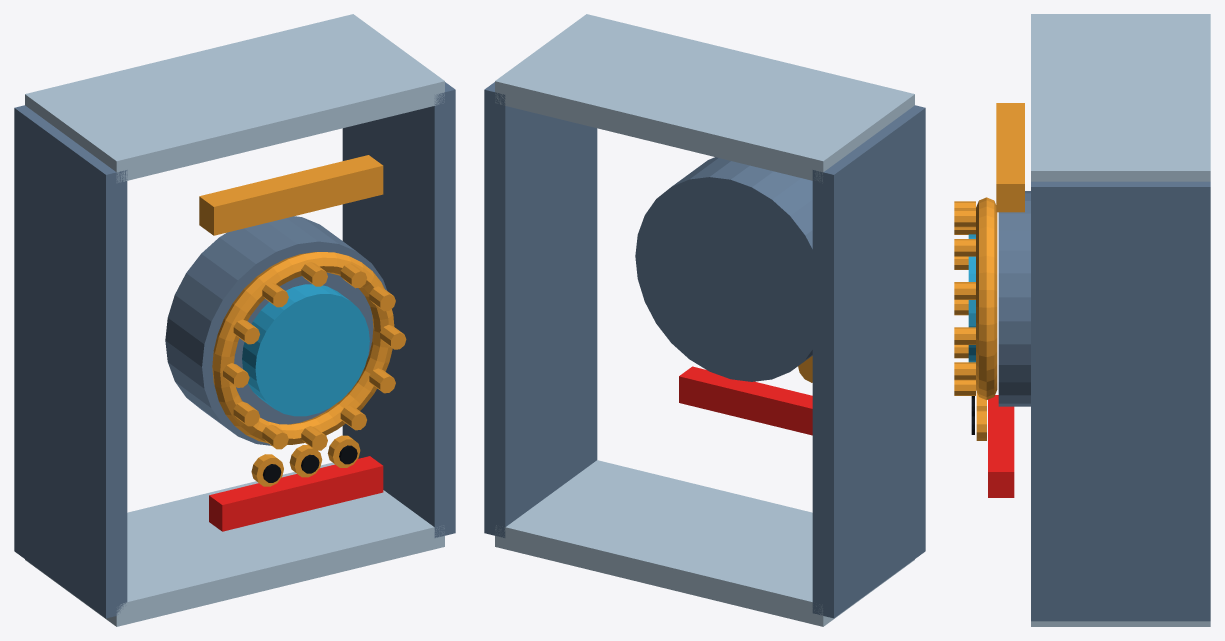
The model's file is 28_L89_ShelterReferenceDosimeter.fbx.
3 renders of one model, left to right at view 1: azimuth 30°, elevation 25°; view 2: azimuth 150°, elevation 25°; view 3: azimuth 270°, elevation 25°, orthographic. The views are drawn at different scales.
Parts seen in each view (by area): view 1: L87_ShelterReferenceDosimeter_Part_0000, L87_ShelterReferenceDosimeter_Part_0001, L87_ShelterReferenceDosimeter_Part_0002, L87_ShelterReferenceDosimeter_Part_0003, L87_ShelterReferenceDosimeter_Part_0004; view 2: L87_ShelterReferenceDosimeter_Part_0000, L87_ShelterReferenceDosimeter_Part_0001, L87_ShelterReferenceDosimeter_Part_0004; view 3: L87_ShelterReferenceDosimeter_Part_0000, L87_ShelterReferenceDosimeter_Part_0001, L87_ShelterReferenceDosimeter_Part_0002, L87_ShelterReferenceDosimeter_Part_0004, L87_ShelterReferenceDosimeter_Part_0003.
Part boxes in pixels (box(x1,y1,x2,y2)): L87_ShelterReferenceDosimeter_Part_0000: box(14, 82, 455, 618); L87_ShelterReferenceDosimeter_Part_0001: box(25, 14, 444, 626); L87_ShelterReferenceDosimeter_Part_0002: box(199, 155, 406, 450); L87_ShelterReferenceDosimeter_Part_0003: box(242, 284, 369, 416); L87_ShelterReferenceDosimeter_Part_0004: box(209, 456, 383, 531); L87_ShelterReferenceDosimeter_Part_0000: box(484, 82, 925, 618); L87_ShelterReferenceDosimeter_Part_0001: box(495, 14, 914, 626); L87_ShelterReferenceDosimeter_Part_0004: box(679, 366, 812, 435); L87_ShelterReferenceDosimeter_Part_0000: box(998, 181, 1210, 621); L87_ShelterReferenceDosimeter_Part_0001: box(1031, 14, 1210, 626); L87_ShelterReferenceDosimeter_Part_0002: box(954, 103, 1024, 399); L87_ShelterReferenceDosimeter_Part_0004: box(988, 395, 1014, 497); L87_ShelterReferenceDosimeter_Part_0003: box(968, 234, 975, 362).
Bounding box in the file's own units: 165 × 210 × 107.
